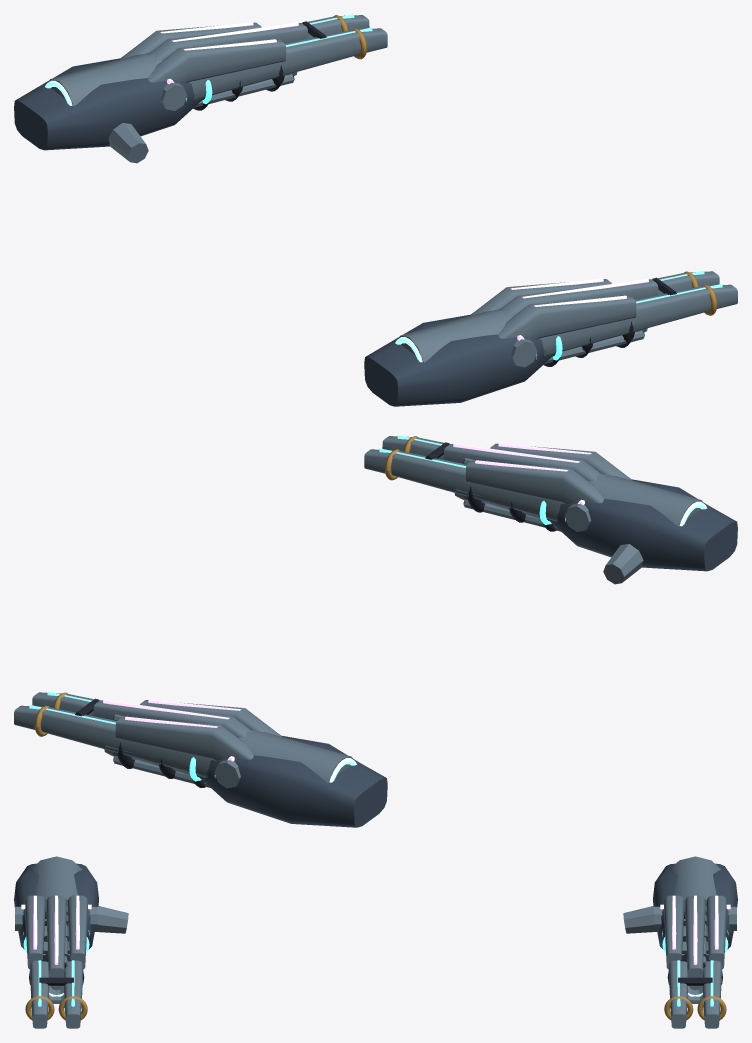
The model's file is mount.glb.
3 renders of one model, top to bottom at view 1: azimuth 30°, elevation 25°; view 2: azimuth 150°, elevation 25°; view 3: azimuth 270°, elevation 25°, orthographic. The views are drawn at different scales.
Parts seen in each view (by area): view 1: m_heavy Fitting gunmetal, m_array Brushed fitting edges, m_siege Brushed fitting edges, m_rotary Brushed fitting edges, m_array m_array emitter, m_heavy Brushed fitting edges, m_siege m_siege emitter, m_siege Champagne gold edging; view 2: m_heavy Fitting gunmetal, m_array Brushed fitting edges, m_siege Brushed fitting edges, m_rotary Brushed fitting edges, m_array m_array emitter, m_heavy Brushed fitting edges, m_siege m_siege emitter, m_rotary Machined graphite, m_siege Champagne gold edging; view 3: m_array Brushed fitting edges, m_siege Brushed fitting edges, m_rotary Brushed fitting edges, m_heavy Fitting gunmetal, m_heavy Brushed fitting edges, m_array m_array emitter, m_siege Champagne gold edging, m_siege m_siege emitter, m_siege Machined graphite, m_rotary Machined graphite.
Boxes of the visible parts, x1,y1,x2,y2 form: m_heavy Fitting gunmetal: [14, 58, 552, 406]; m_array Brushed fitting edges: [119, 22, 658, 367]; m_siege Brushed fitting edges: [189, 15, 737, 356]; m_rotary Brushed fitting edges: [45, 52, 644, 364]; m_array m_array emitter: [160, 22, 648, 340]; m_heavy Brushed fitting edges: [108, 72, 647, 332]; m_siege m_siege emitter: [186, 14, 722, 360]; m_siege Champagne gold edging: [333, 15, 717, 315]; m_heavy Fitting gunmetal: [199, 479, 737, 827]; m_array Brushed fitting edges: [93, 443, 632, 788]; m_siege Brushed fitting edges: [14, 436, 562, 777]; m_rotary Brushed fitting edges: [105, 458, 706, 787]; m_array m_array emitter: [103, 443, 591, 761]; m_heavy Brushed fitting edges: [104, 493, 643, 775]; m_siege m_siege emitter: [29, 435, 565, 781]; m_rotary Machined graphite: [113, 459, 525, 778]; m_siege Champagne gold edging: [34, 436, 418, 736]; m_array Brushed fitting edges: [15, 895, 736, 977]; m_siege Brushed fitting edges: [30, 919, 721, 1028]; m_rotary Brushed fitting edges: [30, 856, 721, 1004]; m_heavy Fitting gunmetal: [14, 863, 737, 949]; m_heavy Brushed fitting edges: [48, 906, 703, 1003]; m_array m_array emitter: [21, 895, 730, 964]; m_siege Champagne gold edging: [25, 996, 726, 1020]; m_siege m_siege emitter: [23, 930, 728, 1006]; m_siege Machined graphite: [39, 950, 712, 985]; m_rotary Machined graphite: [29, 935, 722, 984].
Size of the model in its own units: 17 by 3.72 by 34.
